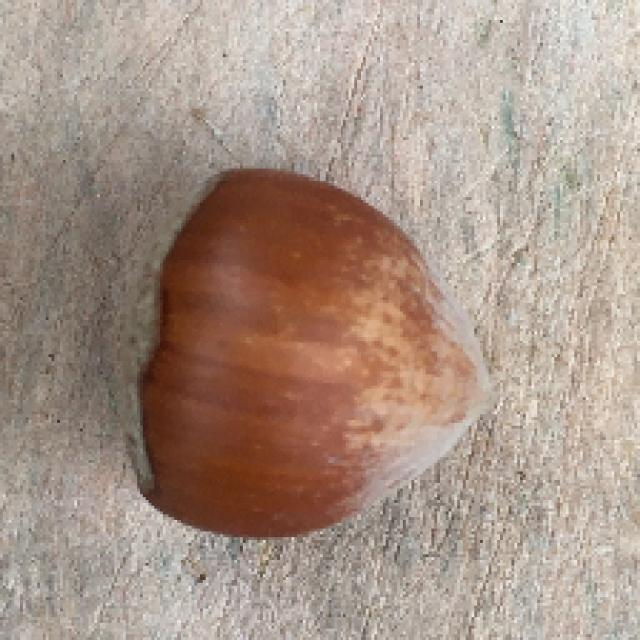qualityHazelnut: (101, 165, 500, 545)
